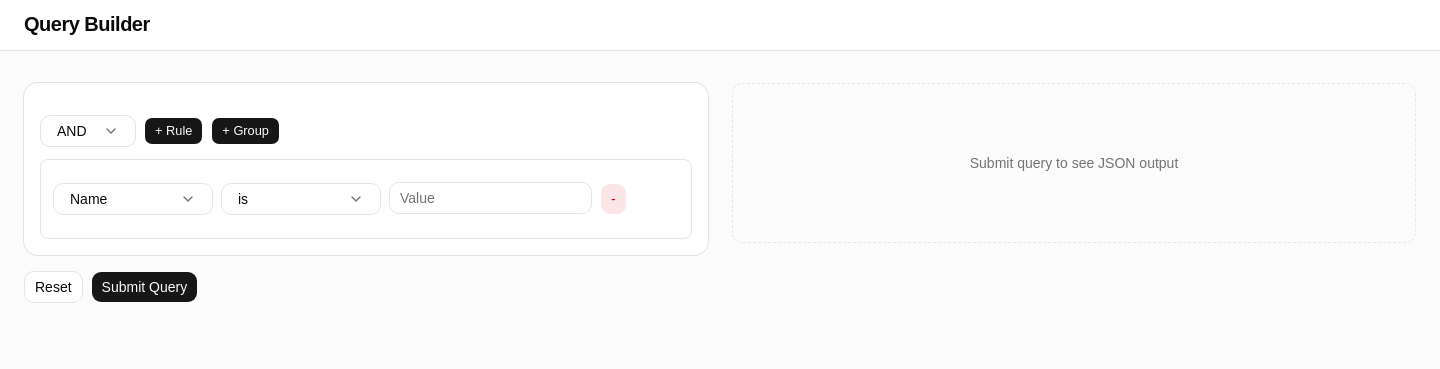
shows JSON output after valid submit
Type "test" into the field with placeholder "Value".
click(490, 198); type("test")  # box [389,182,592,214]
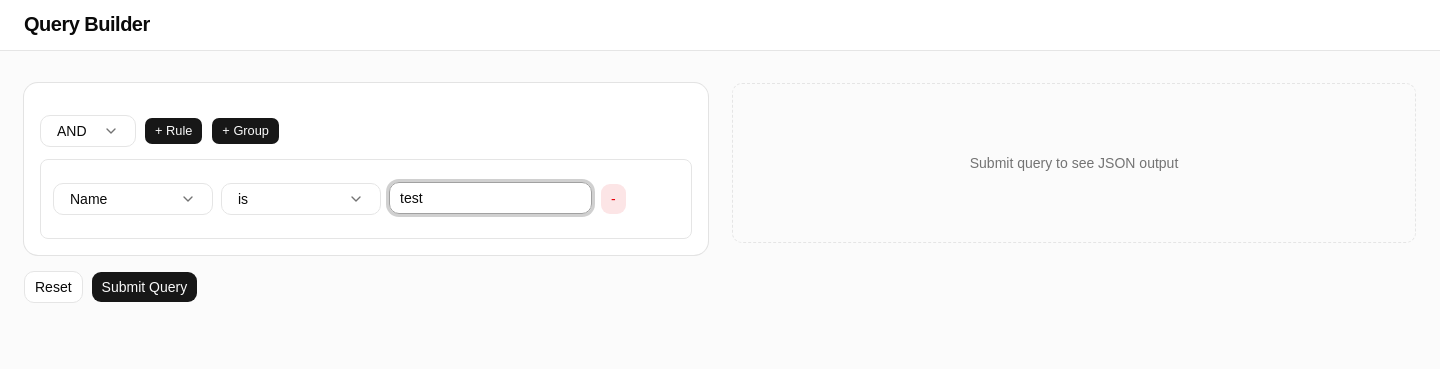
Click the button "Submit Query".
click(144, 287)  # box [91,271,198,303]
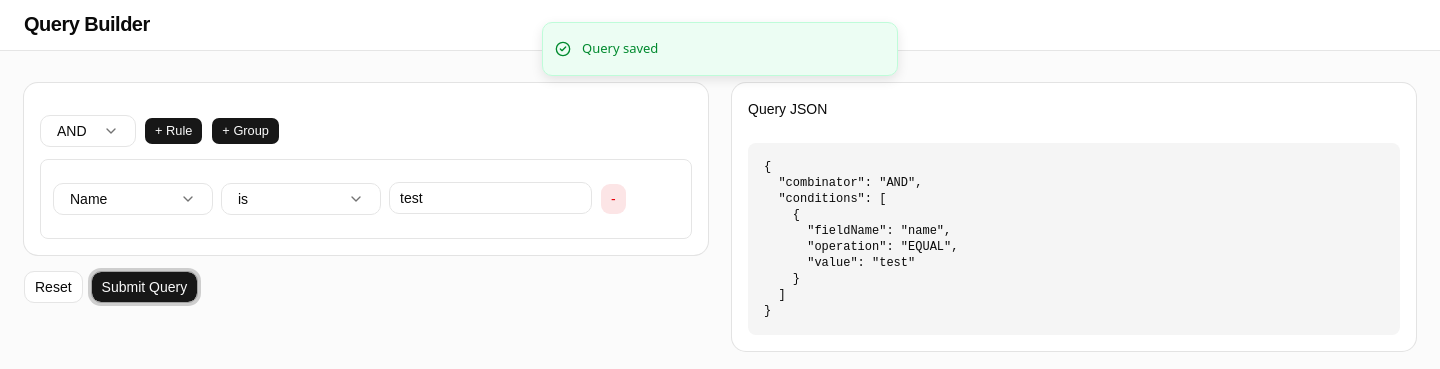
Expected: the text "Query JSON" is shown, [748,101,827,117]
